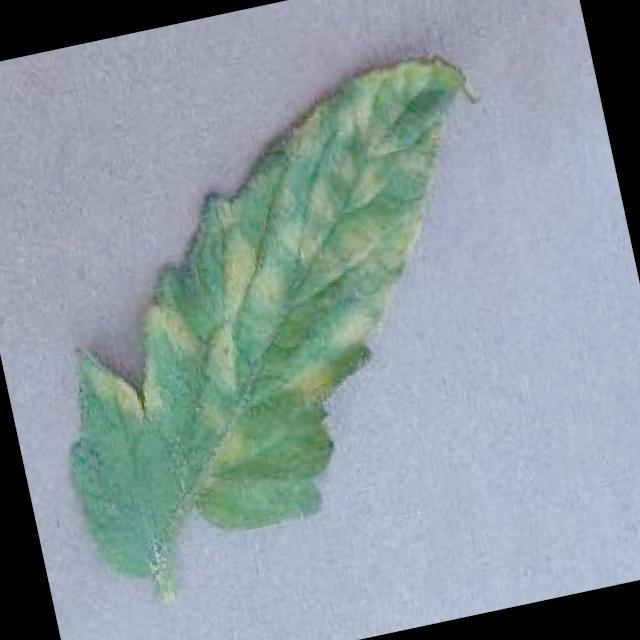Tomato mold leaf: (0, 47, 552, 586)
